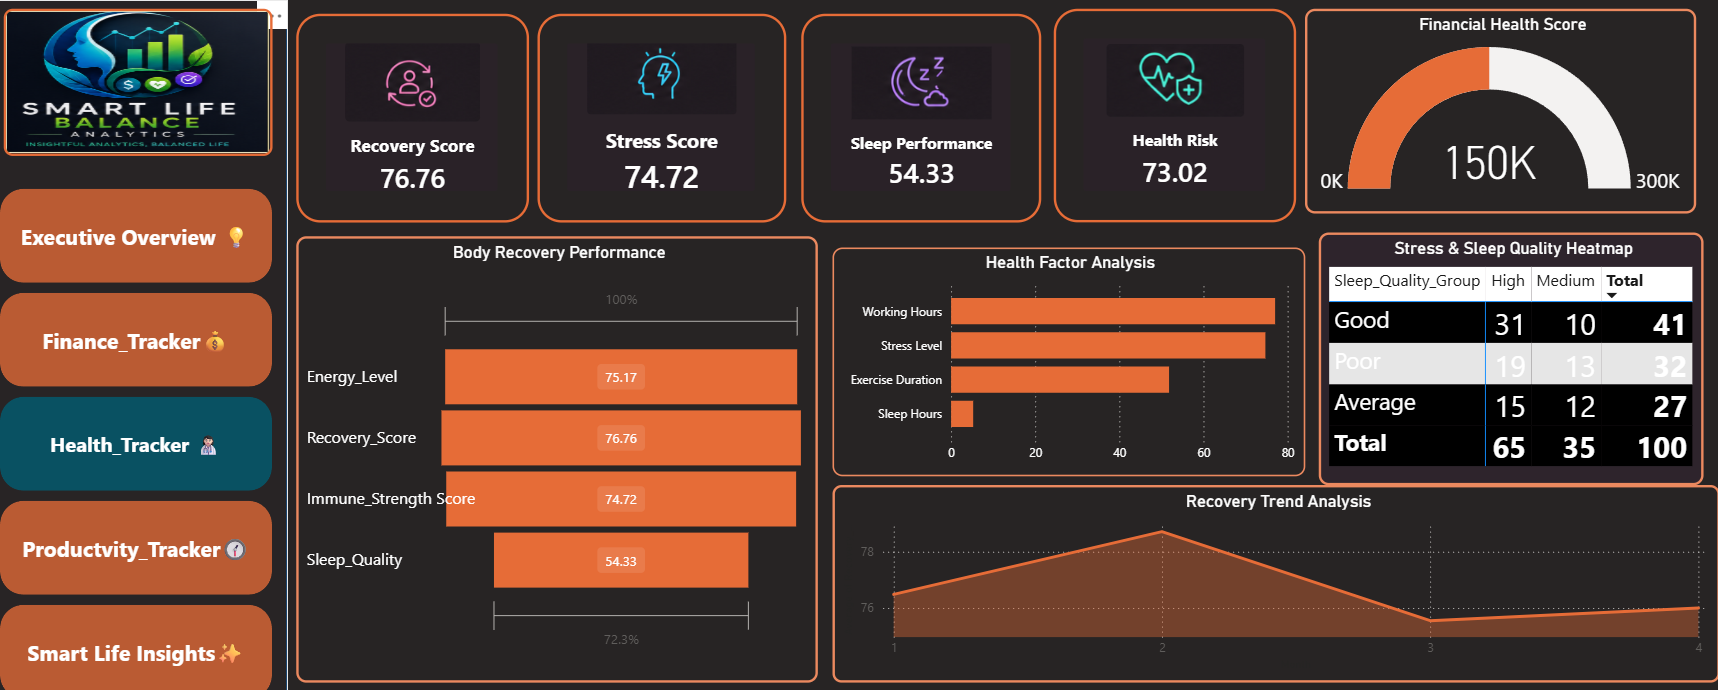

Layout of this report page (visuals, bound fields, positions):
{"tool":"powerbi","page":{"name":"Health_Tracker 👩🏻⚕️","canvas":[1730,700],"ordinal":2},"visuals":[{"type":"shape","box":[0,0,297.5,796.2],"z":0},{"type":"pageNavigator","box":[10,188.8,272.5,511.2],"z":1000},{"type":"image","box":[13.8,8.8,268.8,147.5],"z":2000},{"type":"barChart","title":"Health Factor Analysis","fields":{"Category":["Table (2).wellness Factor"],"Y":["Calendar.Wellness Driver Value"]},"box":[842.5,247.5,472.5,228.8],"z":3000},{"type":"gauge","fields":{"Y":["Sum(finance_tracker.Financial Health Score)"]},"box":[1315,8.8,391.2,205],"z":4000},{"type":"funnel","title":"Body Recovery Performance","fields":{"Y":["Avg(health_tracker.Energy_Level)","Avg(health_tracker.Recovery_Score)","Avg(health_tracker.Immune_Strength_Score)","Avg(health_tracker.Sleep_Quality)"]},"box":[306.2,236.2,521.2,446.2],"z":5000},{"type":"pivotTable","title":"Stress & Sleep Quality Heatmap","fields":{"Values":["CountNonNull(health_tracker.Health_ID)"],"Rows":["health_tracker.Sleep_Quality_Group"],"Columns":["health_tracker.Stress_Level_Group"]},"box":[1328.8,232.5,385,252.5],"z":6000},{"type":"areaChart","title":"⭐ Recovery Trend Analysis","fields":{"Category":["Calendar.Month"],"Y":["Avg(health_tracker.Recovery_Score)"]},"box":[842.5,485,887.5,197.5],"z":7000},{"type":"cardVisual","fields":{"Data":["Avg(health_tracker.Sleep_Quality)"]},"box":[811.2,13.8,240,208.8],"z":8000},{"type":"cardVisual","fields":{"Data":["Avg(health_tracker.Health_Risk_Level)"]},"box":[1063.8,8.8,242.5,213.8],"z":9000},{"type":"cardVisual","fields":{"Data":["Avg(health_tracker.Recovery_Score)"]},"box":[306.2,13.8,232.5,208.8],"z":10000},{"type":"cardVisual","fields":{"Data":["Avg(health_tracker.Stress_Level)"]},"box":[547.5,13.8,248.8,208.8],"z":11000}]}

Visuals, with their boxes on the page's 1730x700 design canvas (x1, y1, x2, y2). These are canvas units, not pixel positions in the 1718x690 screenshot, which may show the page scaled, cropped or inside an application window:
shape: {"left": 0, "top": 0, "right": 298, "bottom": 796}
pageNavigator: {"left": 10, "top": 189, "right": 282, "bottom": 700}
image: {"left": 14, "top": 9, "right": 283, "bottom": 156}
"Health Factor Analysis" barChart: {"left": 842, "top": 248, "right": 1315, "bottom": 476}
gauge - Sum(finance_tracker.Financial Health Score): {"left": 1315, "top": 9, "right": 1706, "bottom": 214}
"Body Recovery Performance" funnel: {"left": 306, "top": 236, "right": 827, "bottom": 682}
"Stress & Sleep Quality Heatmap" pivotTable: {"left": 1329, "top": 232, "right": 1714, "bottom": 485}
"⭐ Recovery Trend Analysis" areaChart: {"left": 842, "top": 485, "right": 1730, "bottom": 682}
cardVisual - Avg(health_tracker.Sleep_Quality): {"left": 811, "top": 14, "right": 1051, "bottom": 223}
cardVisual - Avg(health_tracker.Health_Risk_Level): {"left": 1064, "top": 9, "right": 1306, "bottom": 223}
cardVisual - Avg(health_tracker.Recovery_Score): {"left": 306, "top": 14, "right": 539, "bottom": 223}
cardVisual - Avg(health_tracker.Stress_Level): {"left": 548, "top": 14, "right": 796, "bottom": 223}
